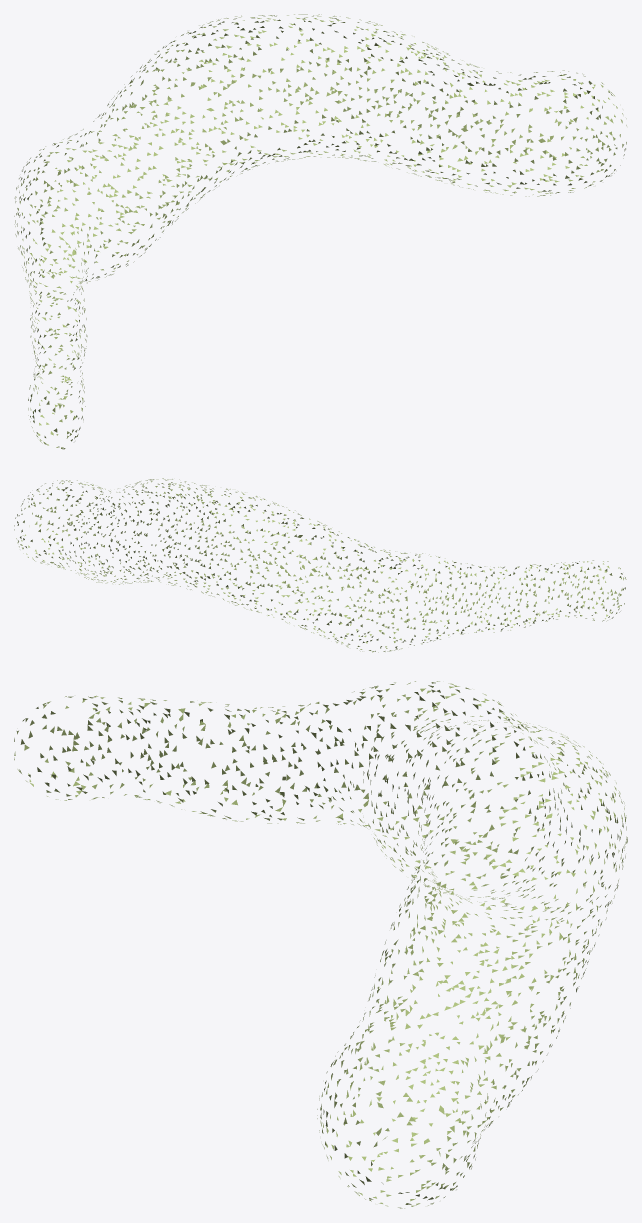
Rendered from morph_011.glb.
3 renders of one model, top to bottom at view 1: azimuth 30°, elevation 25°; view 2: azimuth 150°, elevation 25°; view 3: azimuth 270°, elevation 25°, orthographic. The views are drawn at different scales.
Bounding box in the file's own units: 122 × 35 × 68.51.
